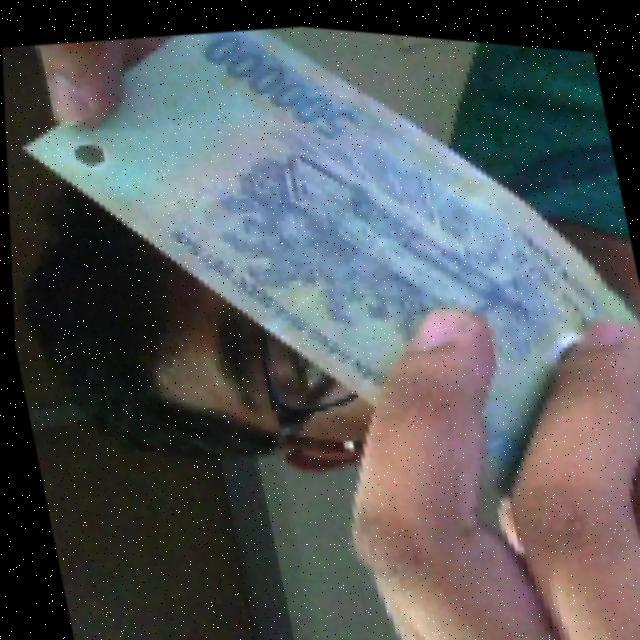500 000 VND: (0, 0, 640, 573)
